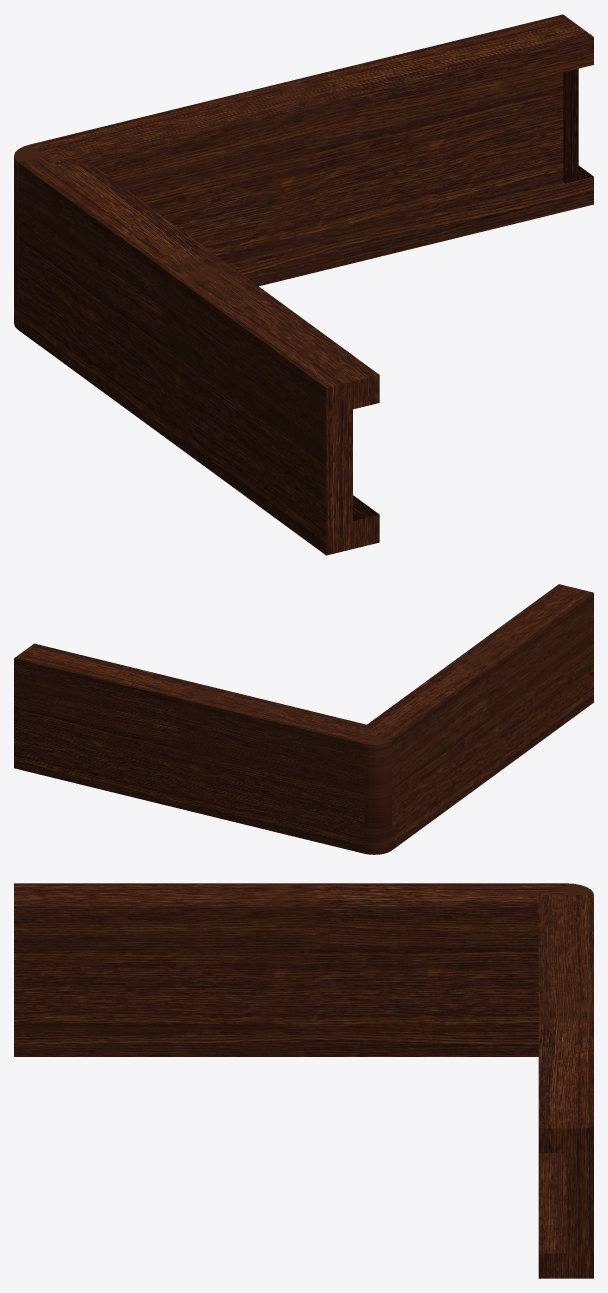
The model's file is border_corner_exterior.fbx.
The picture shows the model from 3 angles, top to bottom: view 1: azimuth 30°, elevation 25°; view 2: azimuth 150°, elevation 25°; view 3: azimuth 270°, elevation 25°; orthographic projection. The views are drawn at different scales.
Parts seen in each view (by area): view 1: border_corner_exterior; view 2: border_corner_exterior; view 3: border_corner_exterior.
Boxes of the visible parts, box(x1,y1,x2,y2) form: border_corner_exterior: box(14, 14, 593, 555); border_corner_exterior: box(14, 584, 593, 854); border_corner_exterior: box(14, 883, 593, 1278).
Size of the model in its own units: 210 by 60 by 210.
